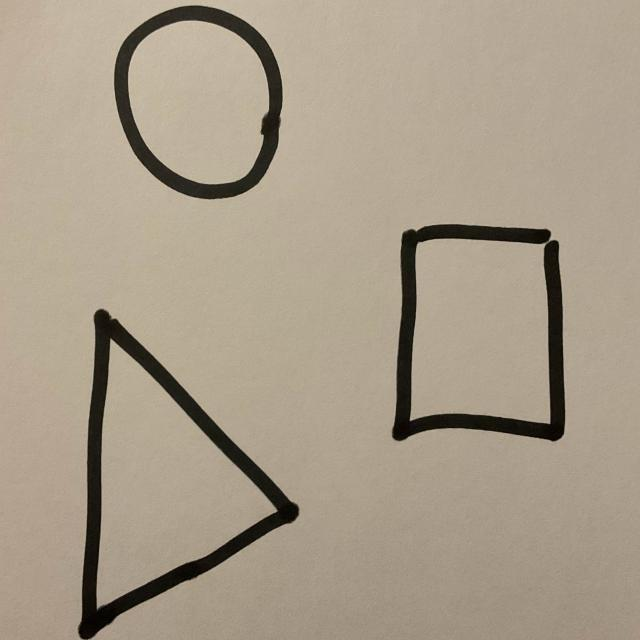Dreieck: (78, 311, 299, 640)
Kreis: (112, 5, 285, 203)
Quadrat: (392, 224, 566, 444)
